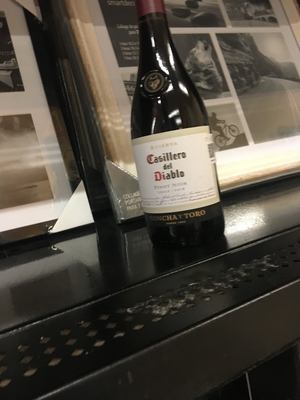casillero del diablo pinot noir: (114, 16, 233, 255)
